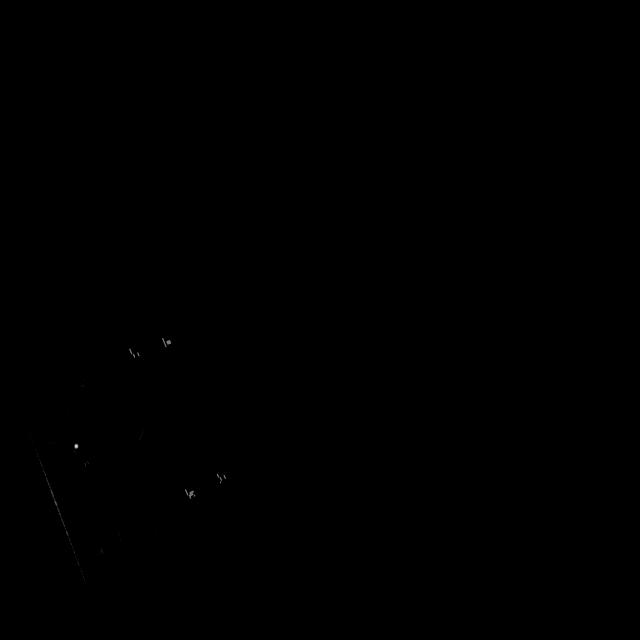medium_debris: (21, 323, 263, 588)
